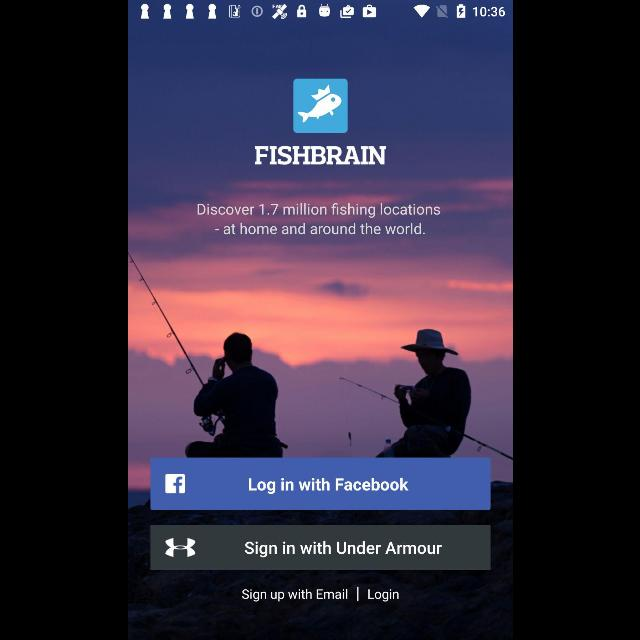backgroundimage: (128, 20, 512, 640)
image: (293, 79, 347, 133)
text: (196, 203, 440, 234), (254, 146, 386, 166), (242, 588, 346, 602), (368, 589, 398, 601)
textbutton: (150, 458, 490, 510), (150, 524, 490, 570)
uppertaskbar: (128, 1, 512, 20)
